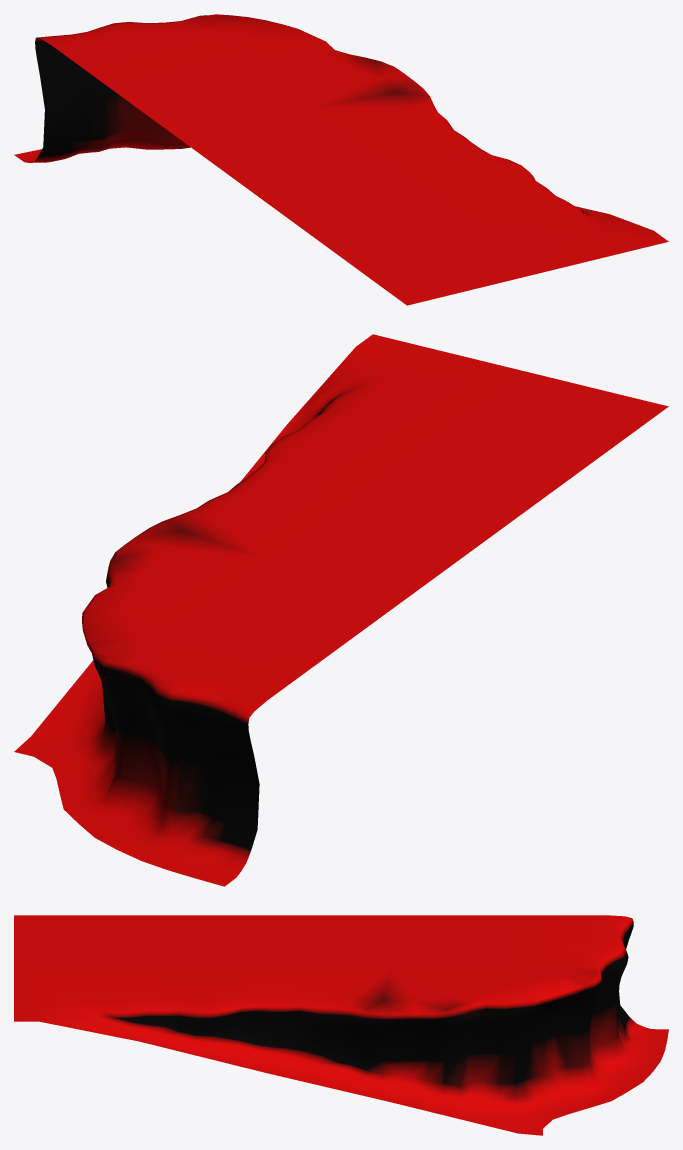
File: ClimbCliff01C 1M Background.fbx
The picture shows the model from 3 angles, top to bottom: view 1: azimuth 30°, elevation 25°; view 2: azimuth 150°, elevation 25°; view 3: azimuth 270°, elevation 25°; orthographic projection. The views are drawn at different scales.
Parts seen in each view (by area): view 1: ClimbCliff01C 1M Background; view 2: ClimbCliff01C 1M Background; view 3: ClimbCliff01C 1M Background.
Boxes of the visible parts, x1,y1,x2,y2 form: ClimbCliff01C 1M Background: (14, 14, 668, 305); ClimbCliff01C 1M Background: (14, 334, 668, 886); ClimbCliff01C 1M Background: (14, 915, 668, 1135).
Bounding box in the file's own units: 2 × 1 × 5.2.
